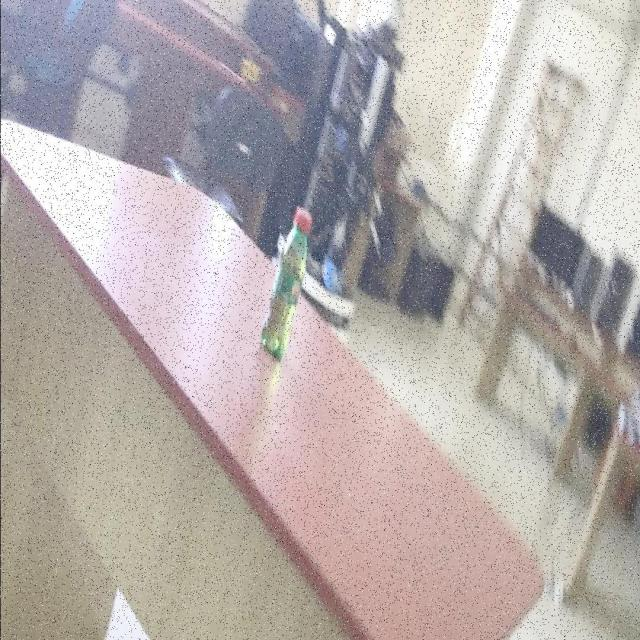Guarana: (259, 203, 313, 373)
